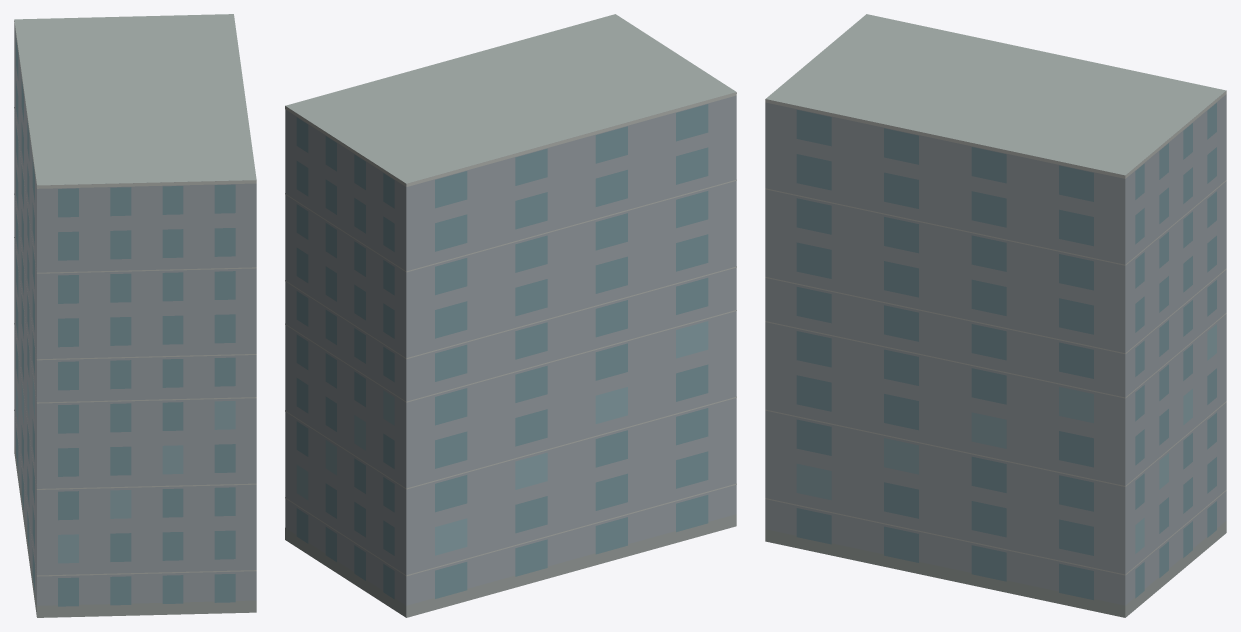
The model's file is residential-3cf3c7c9-f7b0-4be8-96d9-91710c804c55.glb.
The picture shows the model from 3 angles, left to right: view 1: azimuth 30°, elevation 25°; view 2: azimuth 150°, elevation 25°; view 3: azimuth 270°, elevation 25°; orthographic projection. The views are drawn at different scales.
Visible parts, largest first — view 1: residential-3cf3c7c9-f7b0-4be8-96d9-91710c804c55.tmp; view 2: residential-3cf3c7c9-f7b0-4be8-96d9-91710c804c55.tmp; view 3: residential-3cf3c7c9-f7b0-4be8-96d9-91710c804c55.tmp.
Part boxes in pixels (x1,y1,x2,y2): residential-3cf3c7c9-f7b0-4be8-96d9-91710c804c55.tmp: (14, 14, 256, 617); residential-3cf3c7c9-f7b0-4be8-96d9-91710c804c55.tmp: (285, 14, 736, 617); residential-3cf3c7c9-f7b0-4be8-96d9-91710c804c55.tmp: (765, 14, 1226, 617).
Size of the model in its own units: 24.28 by 31 by 29.3.
